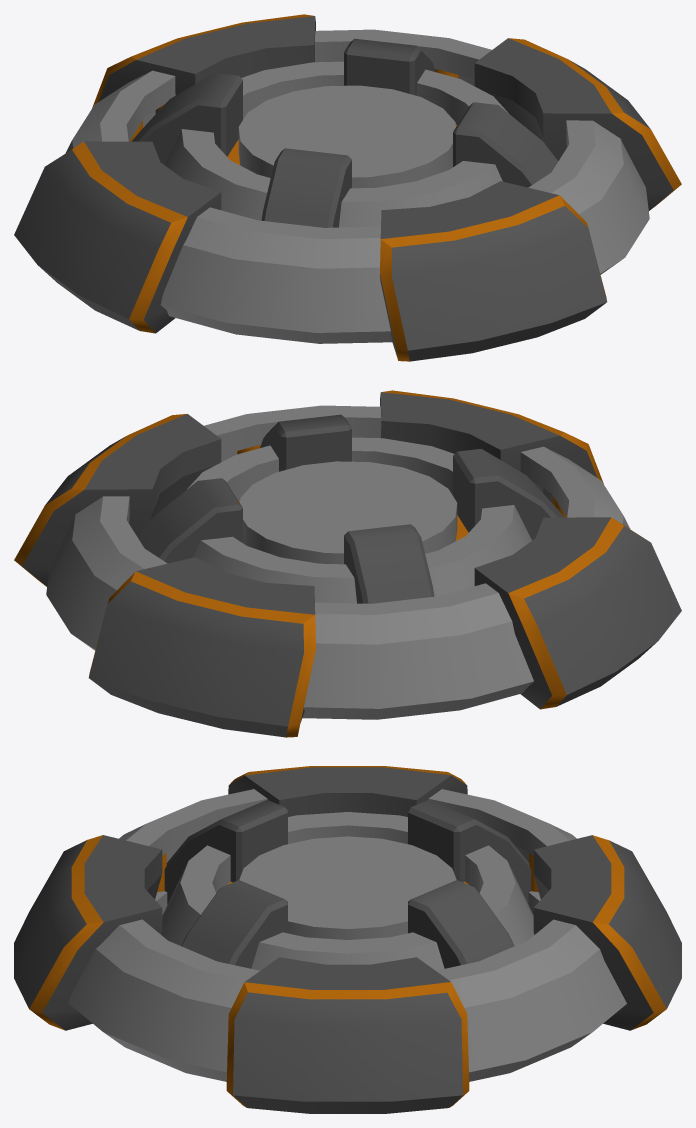
Rendered from DeathRoombaBody.fbx.
3 renders of one model, top to bottom at view 1: azimuth 30°, elevation 25°; view 2: azimuth 150°, elevation 25°; view 3: azimuth 270°, elevation 25°, orthographic.
Visible parts, largest first — view 1: DeathRoombaBody; view 2: DeathRoombaBody; view 3: DeathRoombaBody.
Part boxes in pixels (x1,y1,x2,y2): DeathRoombaBody: [14, 14, 681, 361]; DeathRoombaBody: [14, 390, 681, 737]; DeathRoombaBody: [14, 766, 681, 1113].
Size of the model in its own units: 2.41 by 0.5302 by 2.41.
